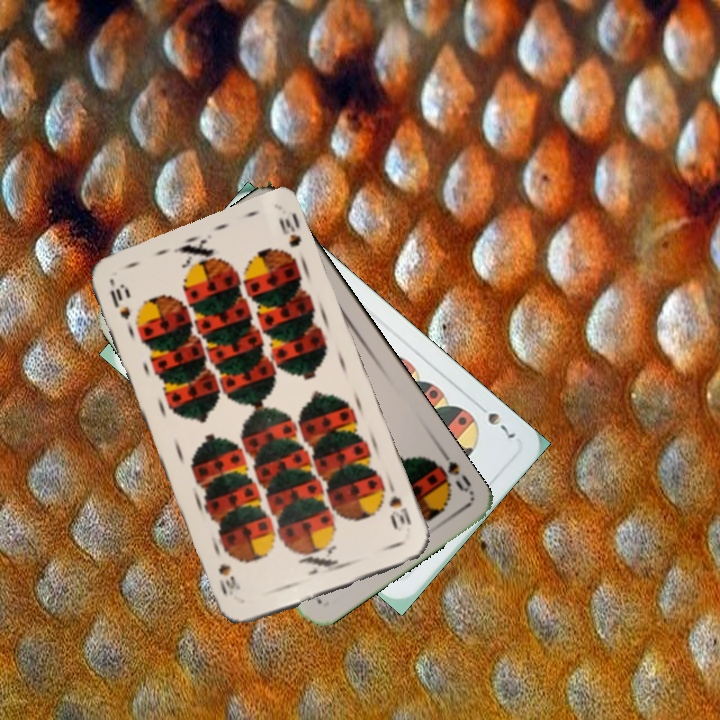S10: (384, 479, 414, 531), (105, 280, 133, 323)
S7: (472, 399, 519, 441)
SO: (425, 444, 475, 496)
